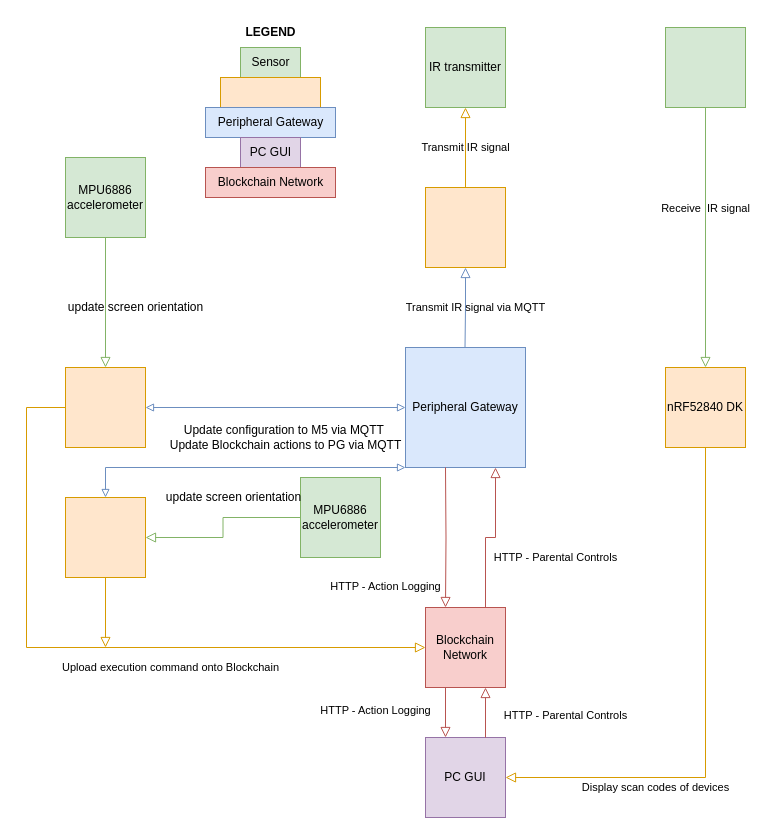
Some shapes in this 767 by 835 pixel diagram are drawn without their labels. Here are the shapes that lost their labels. From the top down, the box of each, then its label:
(664, 26, 746, 108): IR receiver
(220, 76, 320, 108): Microcontroller
(424, 186, 506, 268): Transmitter (M5 Core2)
(64, 366, 146, 448): Controller #1 M5 Core 2
(64, 496, 146, 578): Controller #2 M5 Core 2
